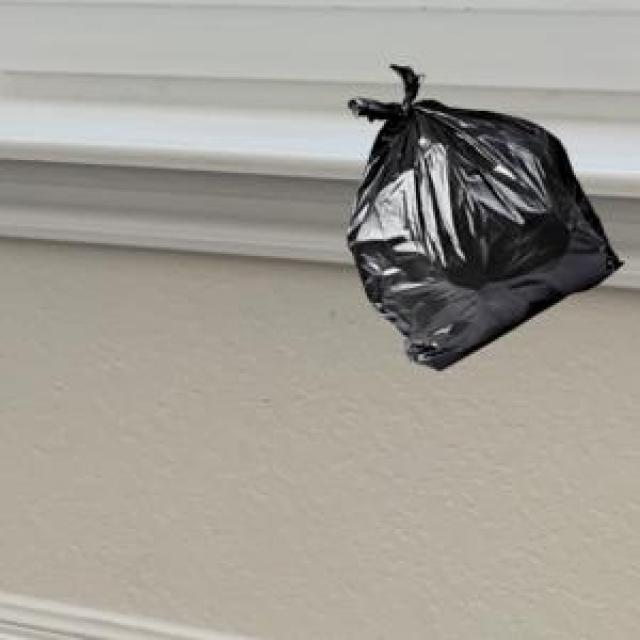miscellaneous trash: (344, 62, 619, 367)
